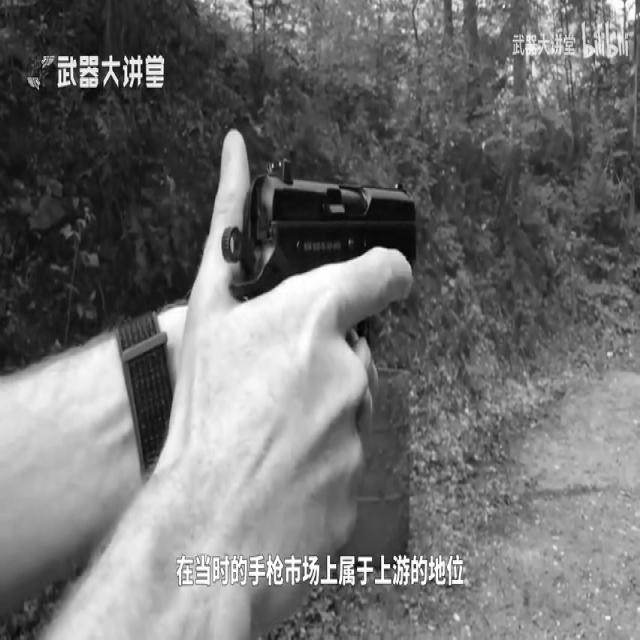Hand-Gun: (189, 81, 466, 496)
